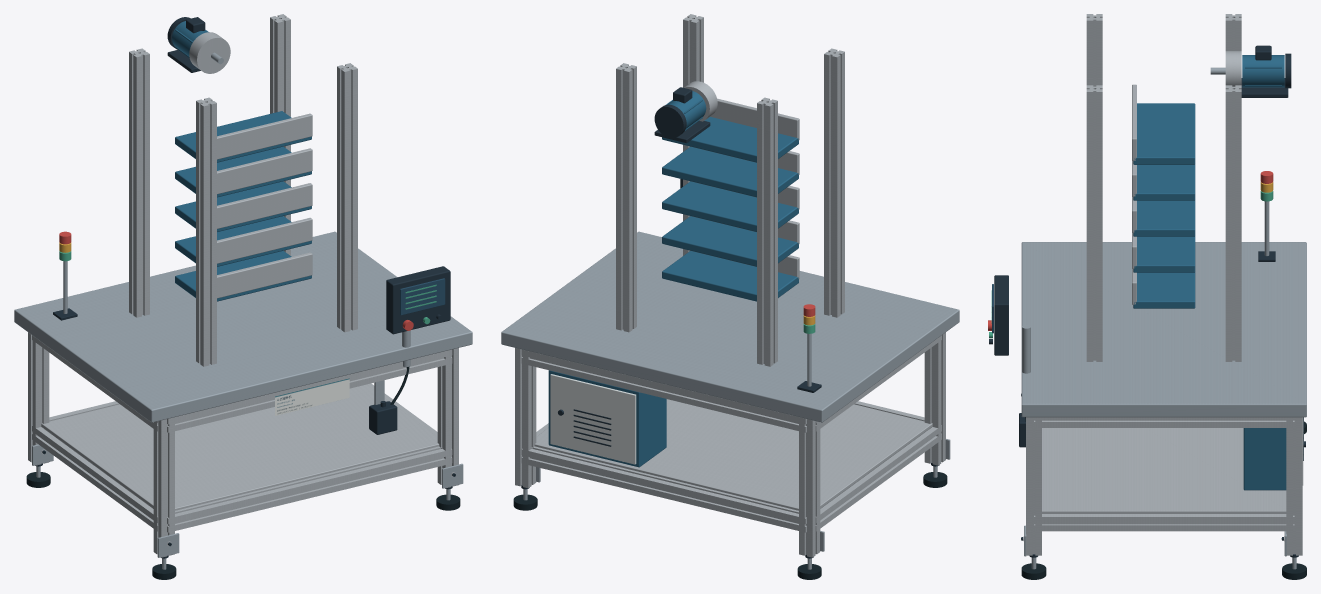
Rendered from bucket-elevator-cell.glb.
3 views of the same model, side by side, from view 1: azimuth 30°, elevation 25°; view 2: azimuth 150°, elevation 25°; view 3: azimuth 270°, elevation 25° (orthographic). The views are drawn at different scales.
Visible parts, largest first — view 1: ClosedMachineBed_40, LowerShelf_41, SlottedExtrusion_34, SlottedExtrusion_72, SlottedExtrusion_74, SlottedExtrusion_71, SlottedExtrusion_35, SlottedExtrusion_11, SlottedExtrusion_36, ConsoleBack_52, BucketLip_84, BucketLip_76 (+16 smaller); view 2: ClosedMachineBed_40, LowerShelf_41, BackDoor_43, SlottedExtrusion_32, SlottedExtrusion_71, SlottedExtrusion_73, SlottedExtrusion_72, SlottedExtrusion_33, CarrierStep_75, CarrierStep_81, CarrierStep_77, CarrierStep_79 (+11 smaller); view 3: ClosedMachineBed_40, LowerShelf_41, SlottedExtrusion_73, SlottedExtrusion_74, SlottedExtrusion_38, CarrierStep_83, SlottedExtrusion_39, Cabinet_42, SlottedExtrusion_19, CarrierStep_77, CarrierStep_79, CarrierStep_75 (+9 smaller).
Boxes of the visible parts, left/top/right/bottom form: ClosedMachineBed_40: left=14, top=231, right=472, bottom=422; LowerShelf_41: left=41, top=384, right=439, bottom=510; SlottedExtrusion_34: left=167, top=446, right=452, bottom=532; SlottedExtrusion_72: left=196, top=97, right=216, bottom=366; SlottedExtrusion_74: left=337, top=63, right=357, bottom=332; SlottedExtrusion_71: left=129, top=48, right=149, bottom=317; SlottedExtrusion_35: left=167, top=349, right=452, bottom=432; SlottedExtrusion_11: left=153, top=417, right=174, bottom=557; SlottedExtrusion_36: left=32, top=425, right=158, bottom=531; ConsoleBack_52: left=386, top=266, right=450, bottom=334; BucketLip_84: left=217, top=113, right=312, bottom=159; BucketLip_76: left=217, top=252, right=312, bottom=298; ClosedMachineBed_40: left=501, top=231, right=959, bottom=422; LowerShelf_41: left=534, top=399, right=932, bottom=510; BackDoor_43: left=550, top=374, right=636, bottom=464; SlottedExtrusion_32: left=521, top=446, right=806, bottom=532; SlottedExtrusion_71: left=757, top=97, right=777, bottom=366; SlottedExtrusion_73: left=616, top=63, right=636, bottom=332; SlottedExtrusion_72: left=824, top=48, right=844, bottom=317; SlottedExtrusion_33: left=521, top=349, right=806, bottom=432; CarrierStep_75: left=662, top=251, right=798, bottom=301; CarrierStep_81: left=662, top=146, right=798, bottom=197; CarrierStep_77: left=662, top=216, right=798, bottom=266; CarrierStep_79: left=662, top=181, right=798, bottom=231; ClosedMachineBed_40: left=1021, top=242, right=1306, bottom=417; LowerShelf_41: left=1042, top=428, right=1286, bottom=513; SlottedExtrusion_73: left=1225, top=85, right=1241, bottom=361; SlottedExtrusion_74: left=1086, top=85, right=1102, bottom=361; SlottedExtrusion_38: left=1034, top=514, right=1294, bottom=531; CarrierStep_83: left=1133, top=103, right=1195, bottom=164; SlottedExtrusion_39: left=1034, top=417, right=1294, bottom=427; Cabinet_42: left=1243, top=428, right=1286, bottom=490; SlottedExtrusion_19: left=1286, top=417, right=1302, bottom=555; CarrierStep_77: left=1133, top=236, right=1195, bottom=272; CarrierStep_79: left=1133, top=200, right=1195, bottom=236; CarrierStep_75: left=1133, top=272, right=1195, bottom=308.
Size of the model in its own units: 1.55 by 2.02 by 1.29.
Materials: 11 (3 with a texture image).
